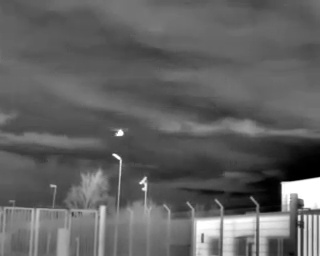HELICOPTER: (111, 124, 131, 141)
